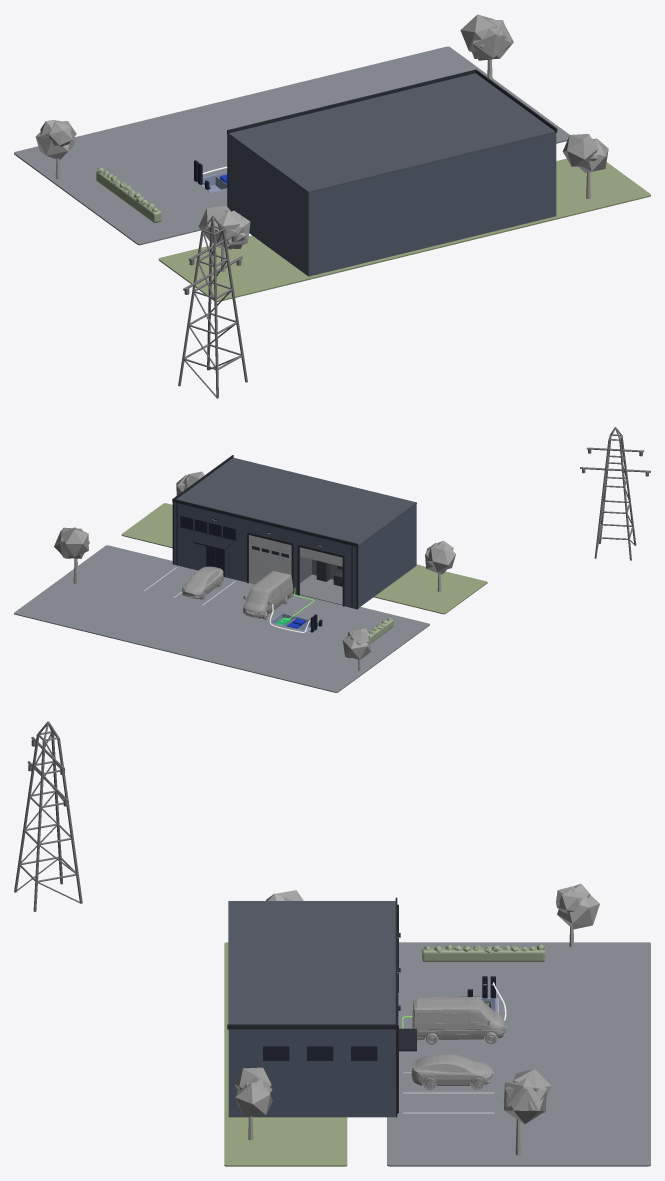
File: sett-hero-bedrijven.glb
The picture shows the model from 3 angles, top to bottom: view 1: azimuth 30°, elevation 25°; view 2: azimuth 150°, elevation 25°; view 3: azimuth 270°, elevation 25°; orthographic projection. The views are drawn at different scales.
Visible parts, largest first — view 1: warehouse, hero-bedrijven, tree_3, tree_1, tree_0, tree_2; view 2: hero-bedrijven, warehouse, van, tree_3, car, tree_0, tree_2; view 3: hero-bedrijven, warehouse, van, car, tree_3, tree_1, tree_2.
Part boxes in pixels (x1,y1,x2,y2): warehouse: [227, 69, 557, 276]; hero-bedrijven: [14, 46, 650, 398]; tree_3: [460, 14, 513, 80]; tree_1: [562, 134, 608, 198]; tree_0: [198, 205, 250, 271]; tree_2: [35, 120, 76, 179]; hero-bedrijven: [14, 427, 650, 692]; warehouse: [172, 455, 416, 609]; van: [243, 571, 293, 619]; tree_3: [54, 527, 89, 583]; car: [182, 566, 223, 599]; tree_0: [425, 540, 455, 591]; tree_2: [342, 627, 371, 671]; hero-bedrijven: [14, 721, 650, 1166]; warehouse: [227, 897, 416, 1117]; van: [412, 997, 505, 1044]; car: [411, 1054, 492, 1089]; tree_3: [503, 1069, 551, 1155]; tree_1: [234, 1067, 272, 1140]; tree_2: [556, 883, 599, 946].
Size of the model in its own units: 3867 by 1177 by 3620.
